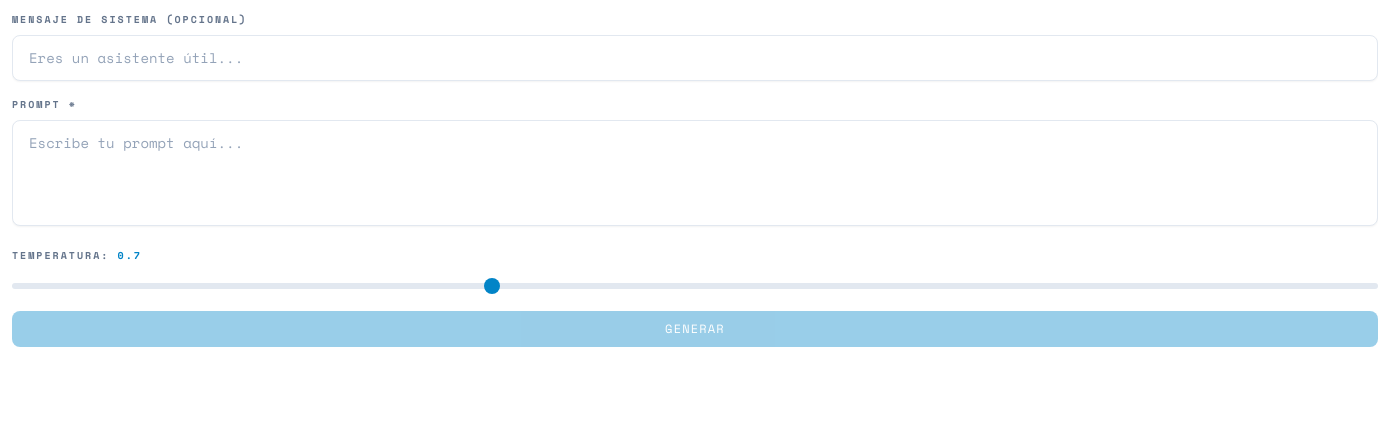
AiGenerator › shows error on failed request
Type "Test" into the text box with placeholder "Escribe tu prompt aquí..." at x=695, y=173, box [12,120,1378,226]
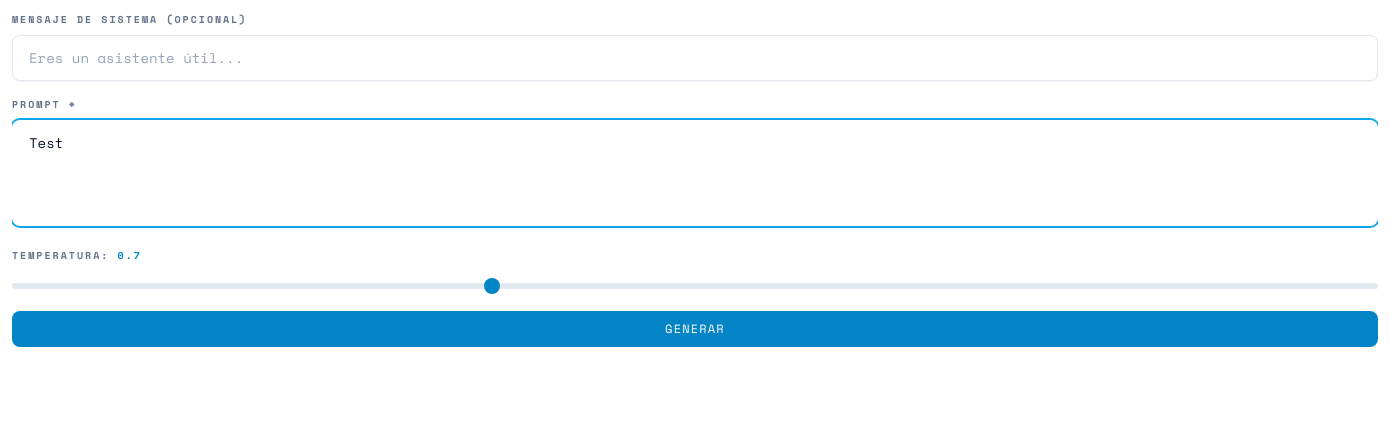
Click the button "Generar" at x=695, y=329, box [12,311,1378,347]
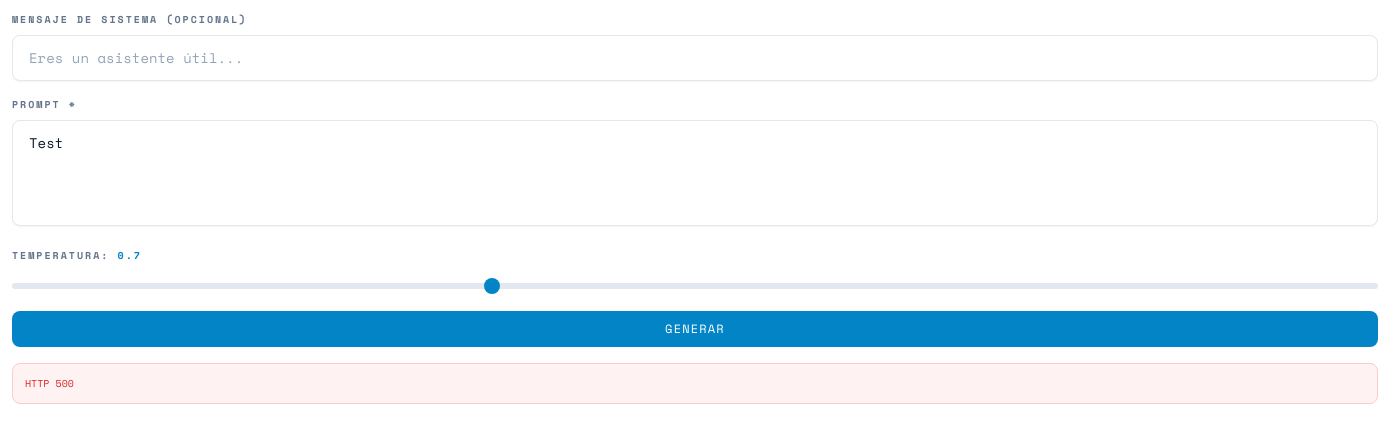
Expected: the text "HTTP 500" is shown, [25,376,74,391]
